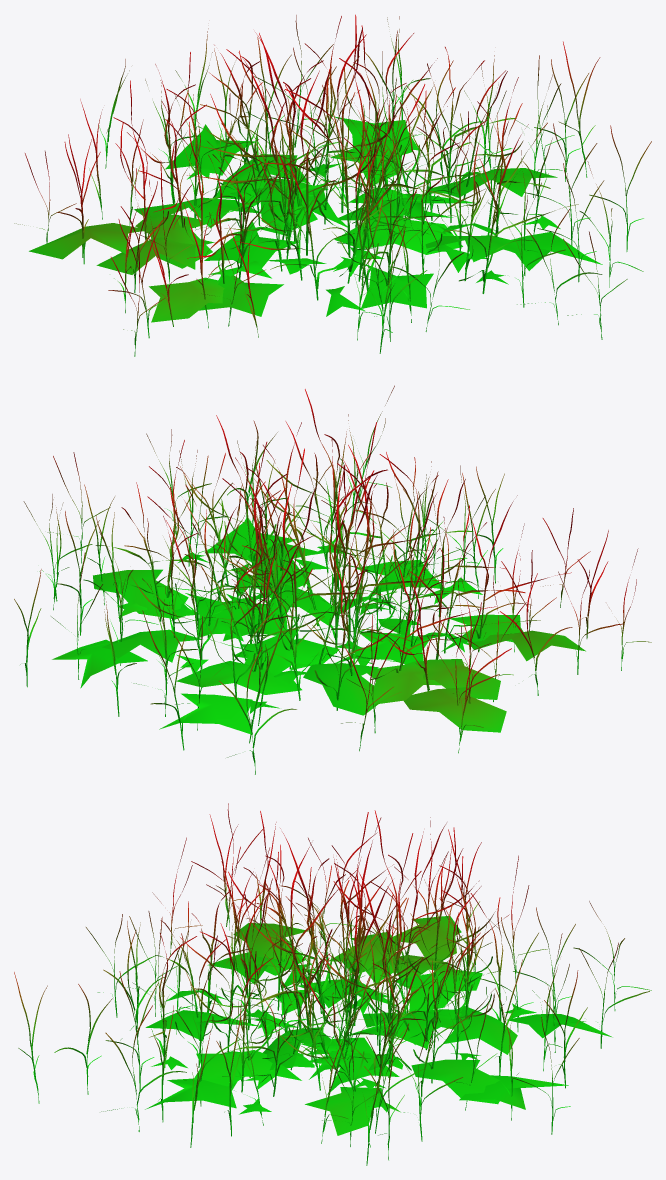
Rendered from Kikuyu Grass_LOD0_Var4_wiljearqx.fbx.
3 views of the same model, one above another, from view 1: azimuth 30°, elevation 25°; view 2: azimuth 150°, elevation 25°; view 3: azimuth 270°, elevation 25° (orthographic). The views are drawn at different scales.
Visible parts, largest first — view 1: _afz6_Var4_LOD0; view 2: _afz6_Var4_LOD0; view 3: _afz6_Var4_LOD0.
Part boxes in pixels (left/top/right/bottom): _afz6_Var4_LOD0: left=14, top=14, right=651, bottom=356; _afz6_Var4_LOD0: left=14, top=385, right=651, bottom=774; _afz6_Var4_LOD0: left=14, top=803, right=651, bottom=1165.
Bounding box in the file's own units: 115 × 42.72 × 118.
